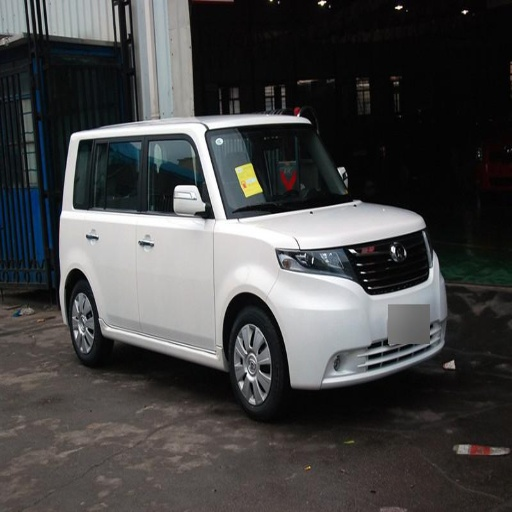front_bumper: (273, 230, 447, 386)
front_right_door: (136, 134, 213, 350)
front_right_light: (277, 249, 348, 276)
